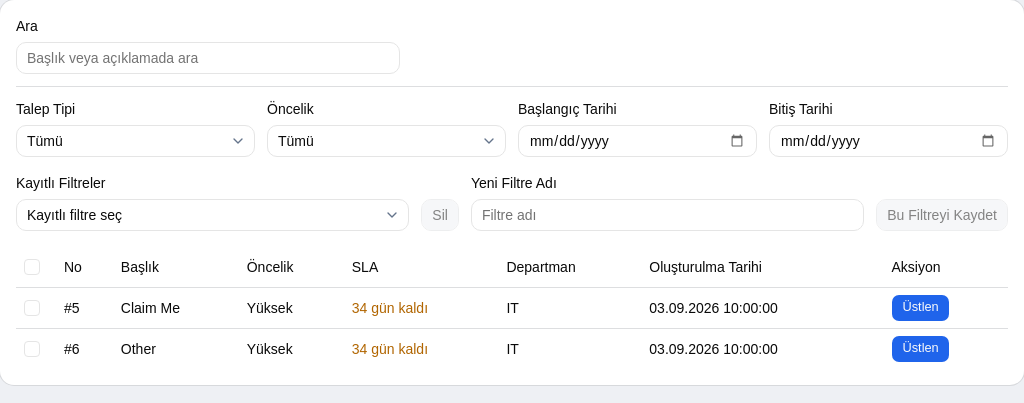
Test: Queue page › claims a request via "Üstlen" and removes it from the list on success
The width and height of the screenshot is (1024, 403).
Expected: the text "Claim Me" is shown, 113,287 -> 239,328
Click the button "Üstlen" in the row of "Claim Me": click(921, 308) 891,294 -> 950,322
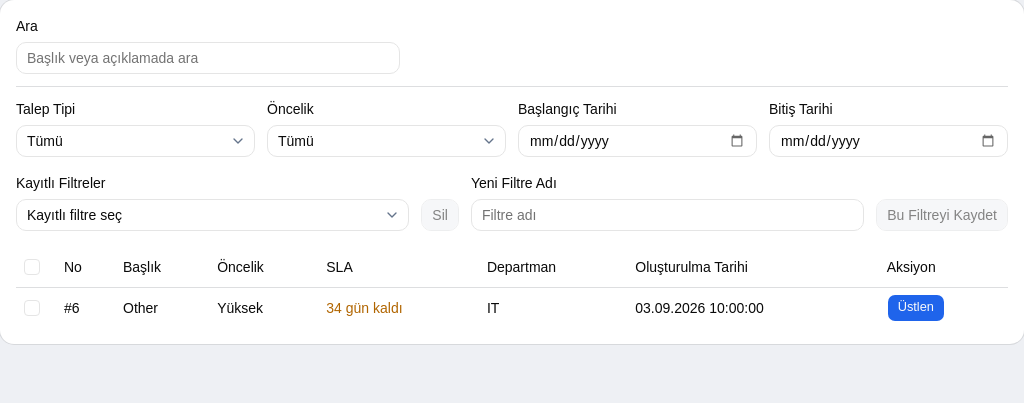
Expected: the text "Other" is shown, 115,287 -> 209,328
Expected: the text "Claim Me" is gone
